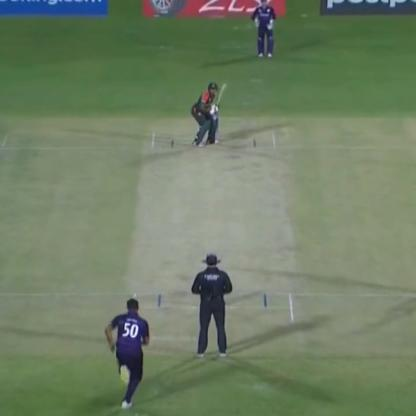bat: (206, 80, 228, 116)
pitch: (123, 130, 301, 339)
